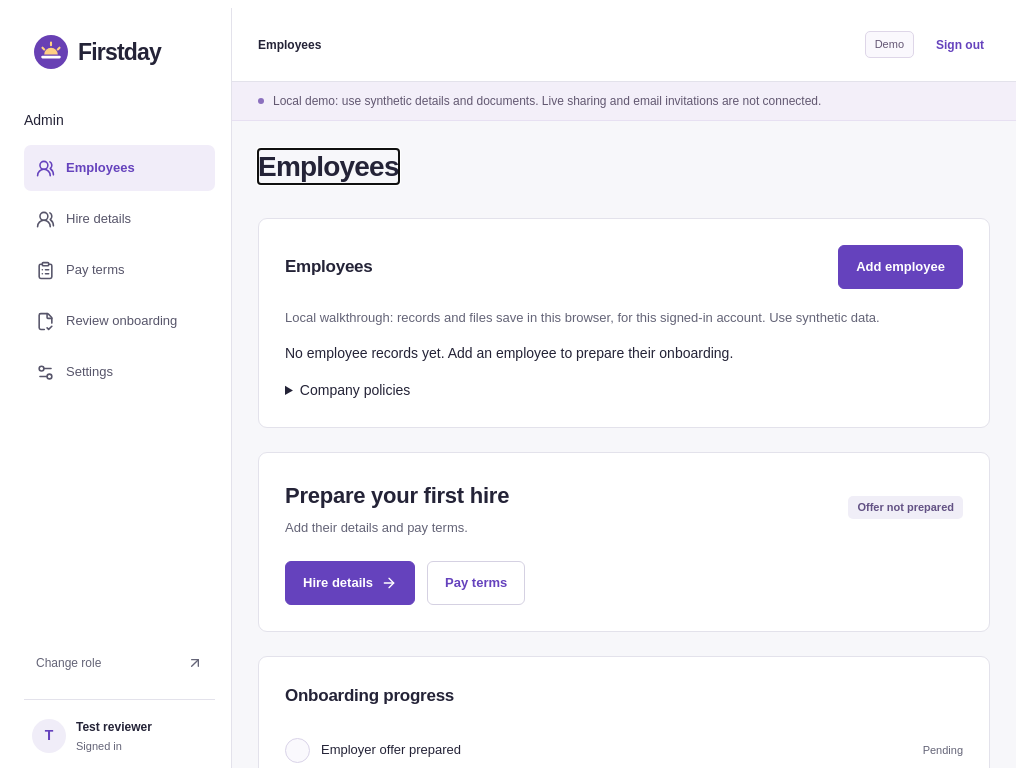
Admin configuration recovery › treats an unreadable successful response as a recoverable error
This screenshot has width=1024, height=768.
Step 1. Click the button "Settings" → {"x": 120, "y": 372}, box [24,349,215,395]
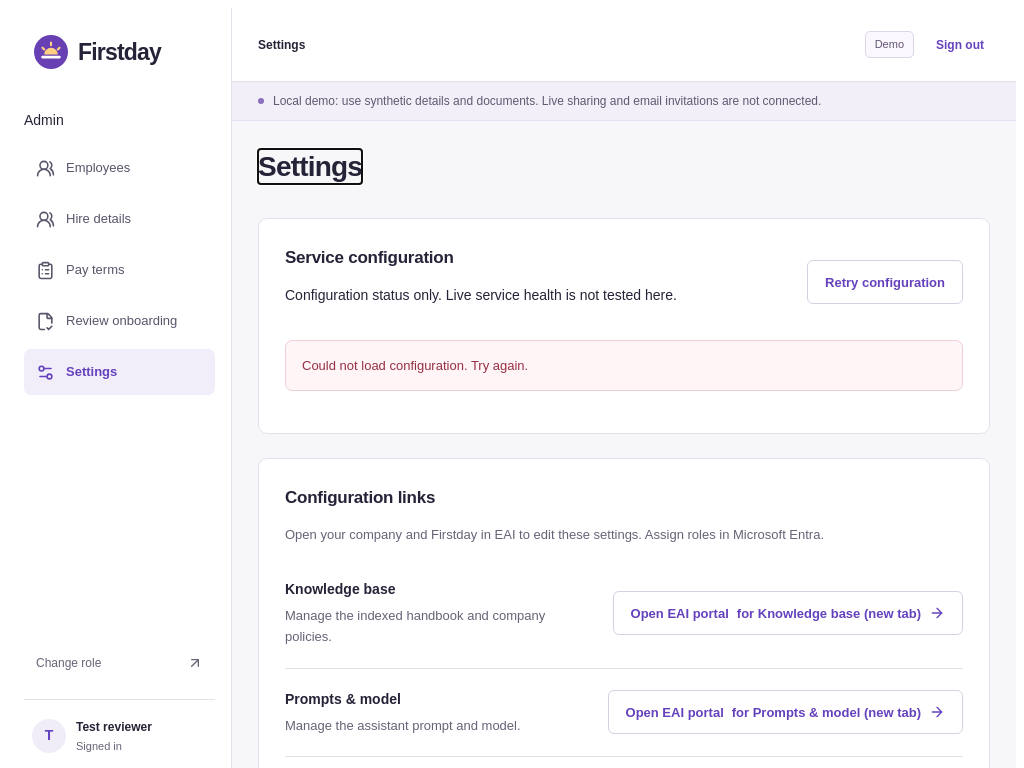
Expected: the message "Could not load configuration. Try again." is shown, [285,340,963,391]
Expected: the button "Retry configuration" is enabled, [807,260,963,304]
